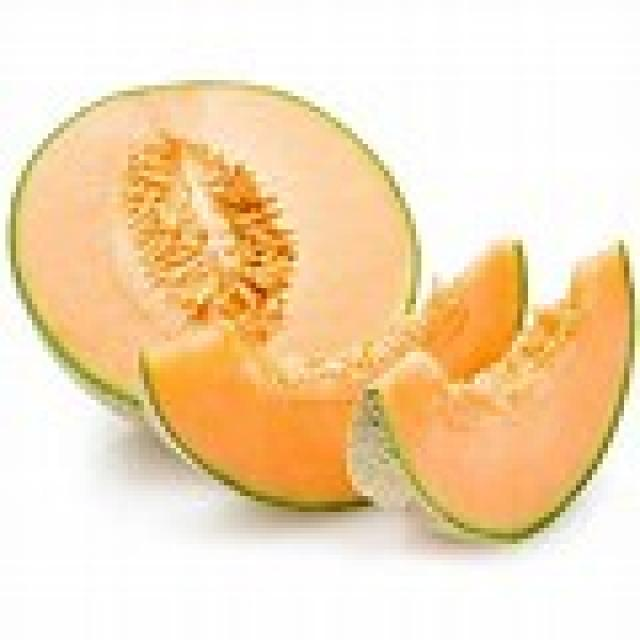Hami Melon: (9, 83, 420, 424)
